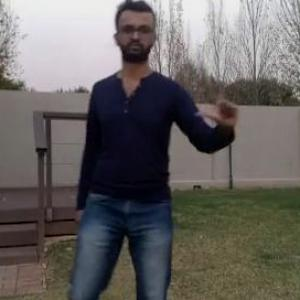land_hand: (193, 72, 248, 134)
